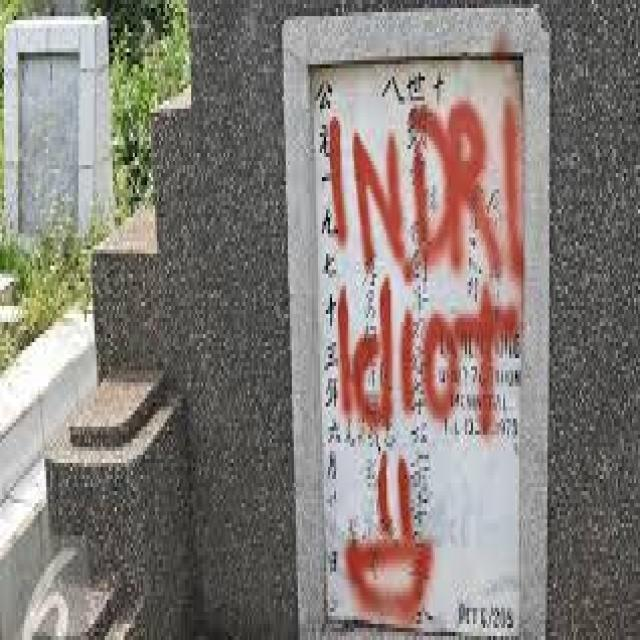nonspitting: (328, 100, 523, 616)
